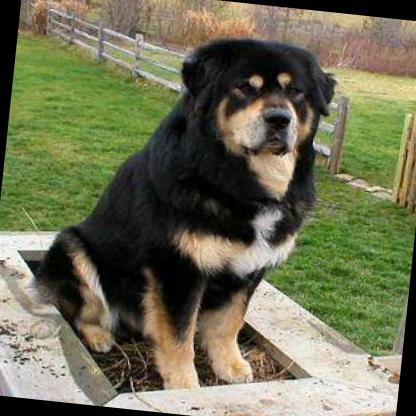Tibetan_mastiff: (18, 13, 347, 411)
